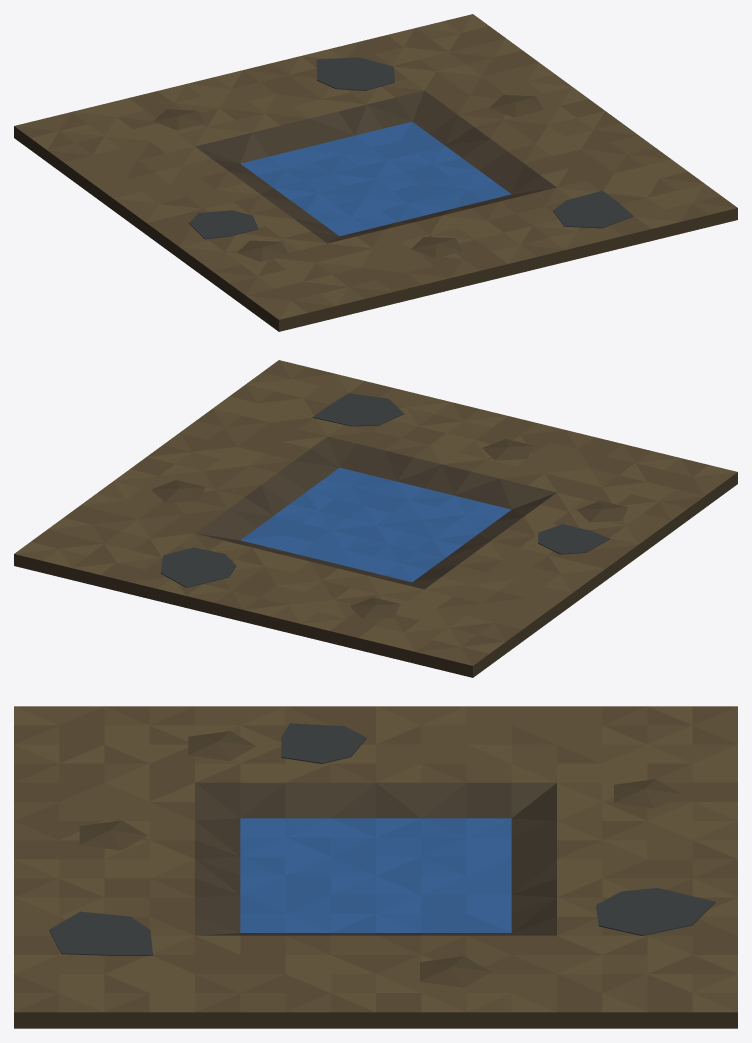
File: river_pool_mud.glb
3 views of the same model, one above another, from view 1: azimuth 30°, elevation 25°; view 2: azimuth 150°, elevation 25°; view 3: azimuth 270°, elevation 25° (orthographic). The views are drawn at different scales.
Parts seen in each view (by area): view 1: river_pool_mud; view 2: river_pool_mud; view 3: river_pool_mud.
Boxes of the visible parts, x1,y1,x2,y2 form: river_pool_mud: (14,14,737,331); river_pool_mud: (14,360,737,677); river_pool_mud: (14,706,737,1028).
Size of the model in its own units: 4 by 0.13 by 4.
